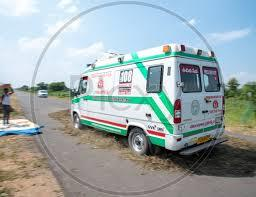ER: (71, 43, 227, 156)
